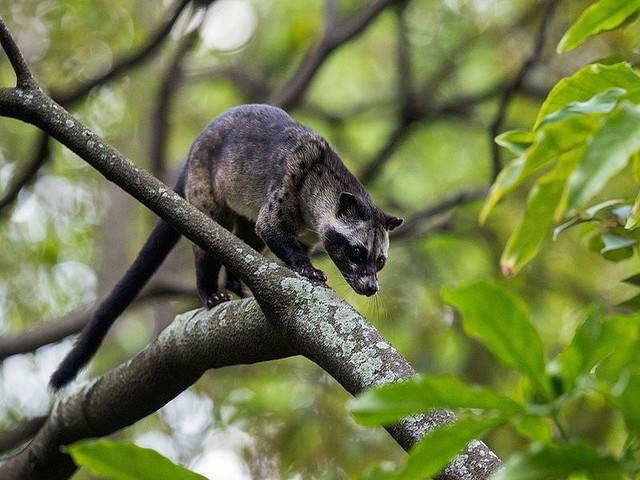civet: (166, 102, 406, 307)
